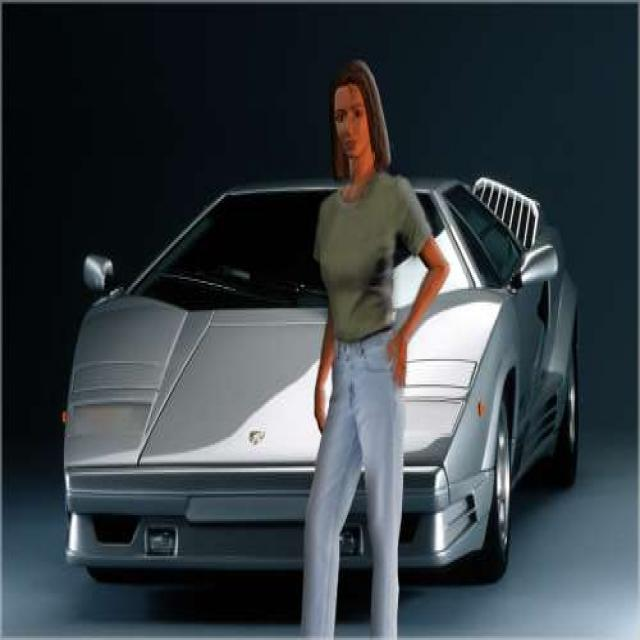Car: (58, 167, 584, 594)
